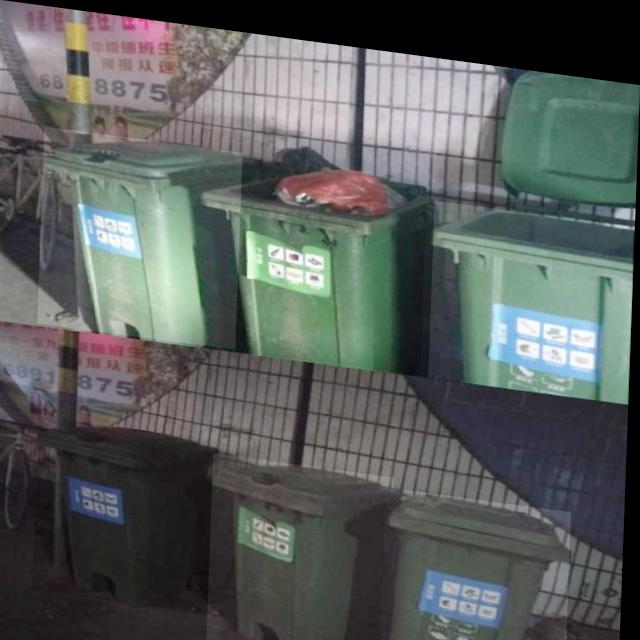garbage_bin: (40, 125, 244, 343), (431, 188, 635, 386), (211, 447, 398, 640), (37, 415, 221, 608), (383, 476, 574, 640)
overflow: (204, 147, 429, 363)
